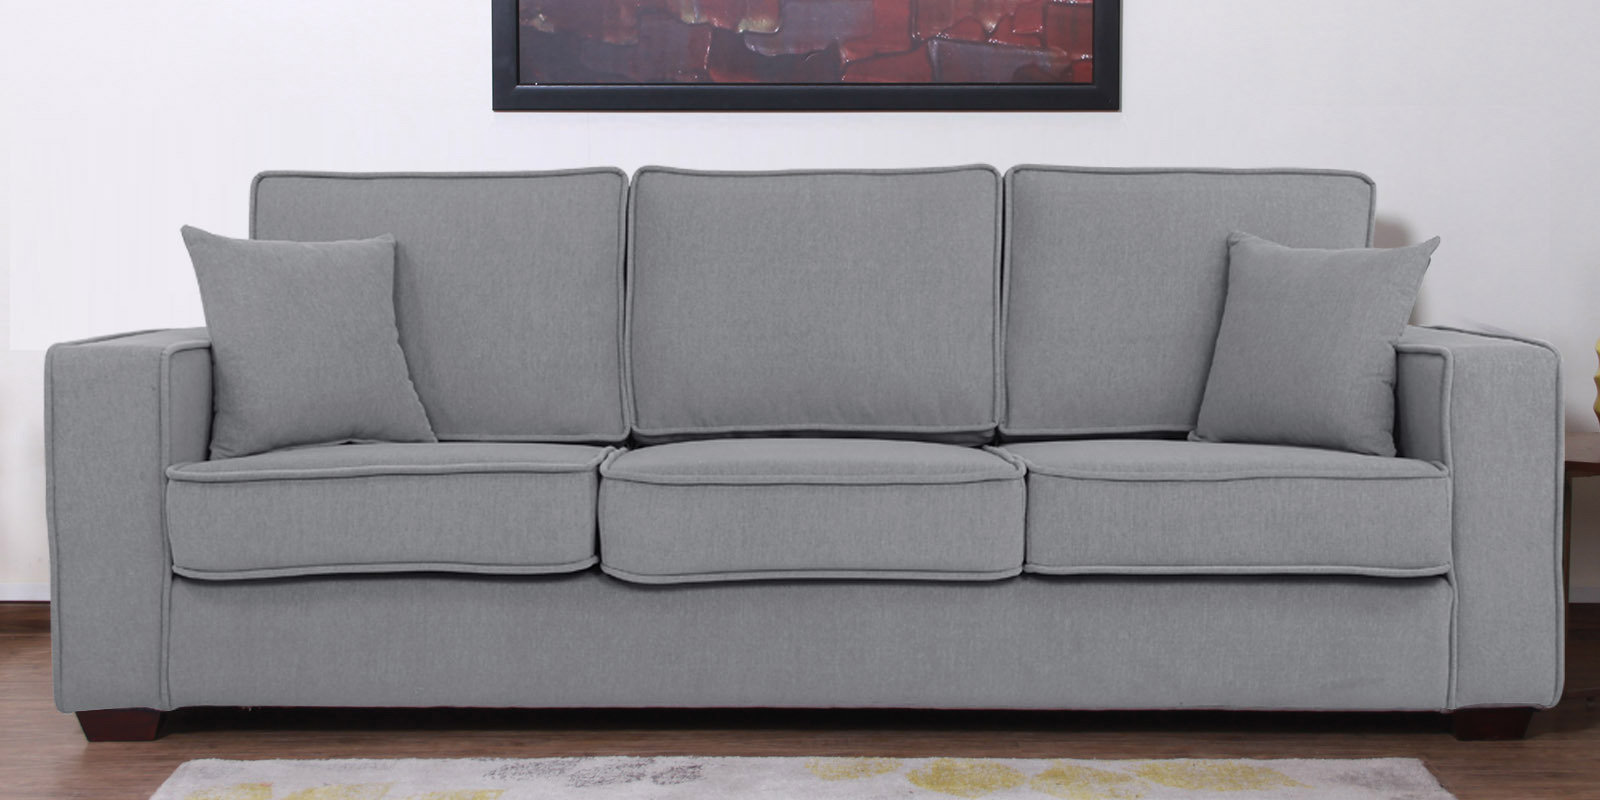Hugo Three Seater Sofa in Ash Grey Colour by CasaCraft: (27, 155, 1582, 753)
